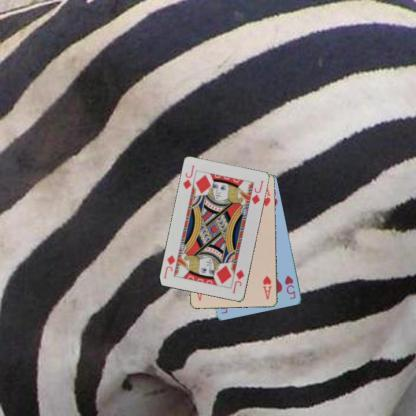5h: (282, 273, 297, 300)
Ah: (260, 274, 274, 300)
Jd: (180, 163, 196, 191), (230, 268, 246, 295)
